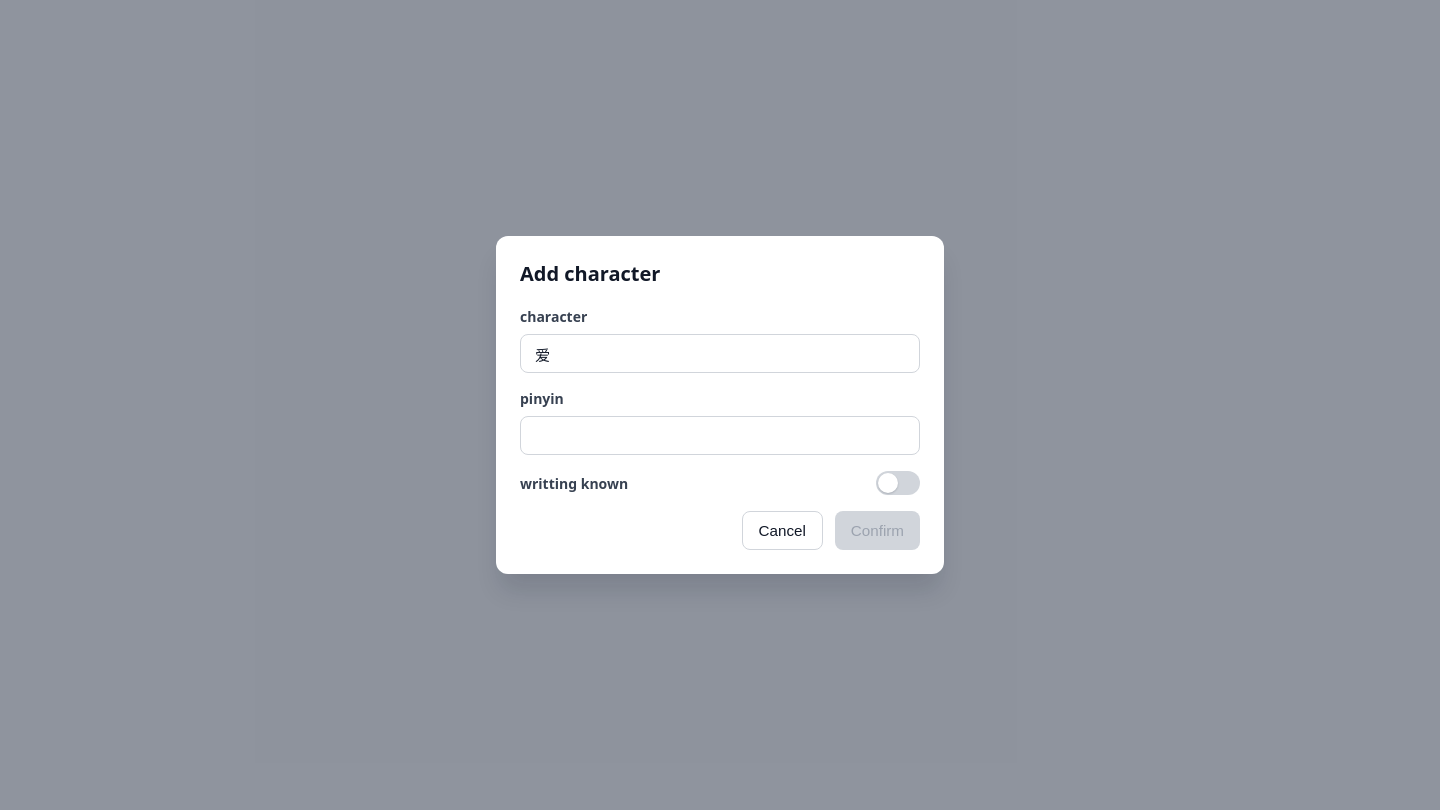
it: CharacterFormModal › keeps confirm disabled for invalid pinyin
Type "invalid" into the field labelled "pinyin" at [720, 436], box [520,416,920,455]
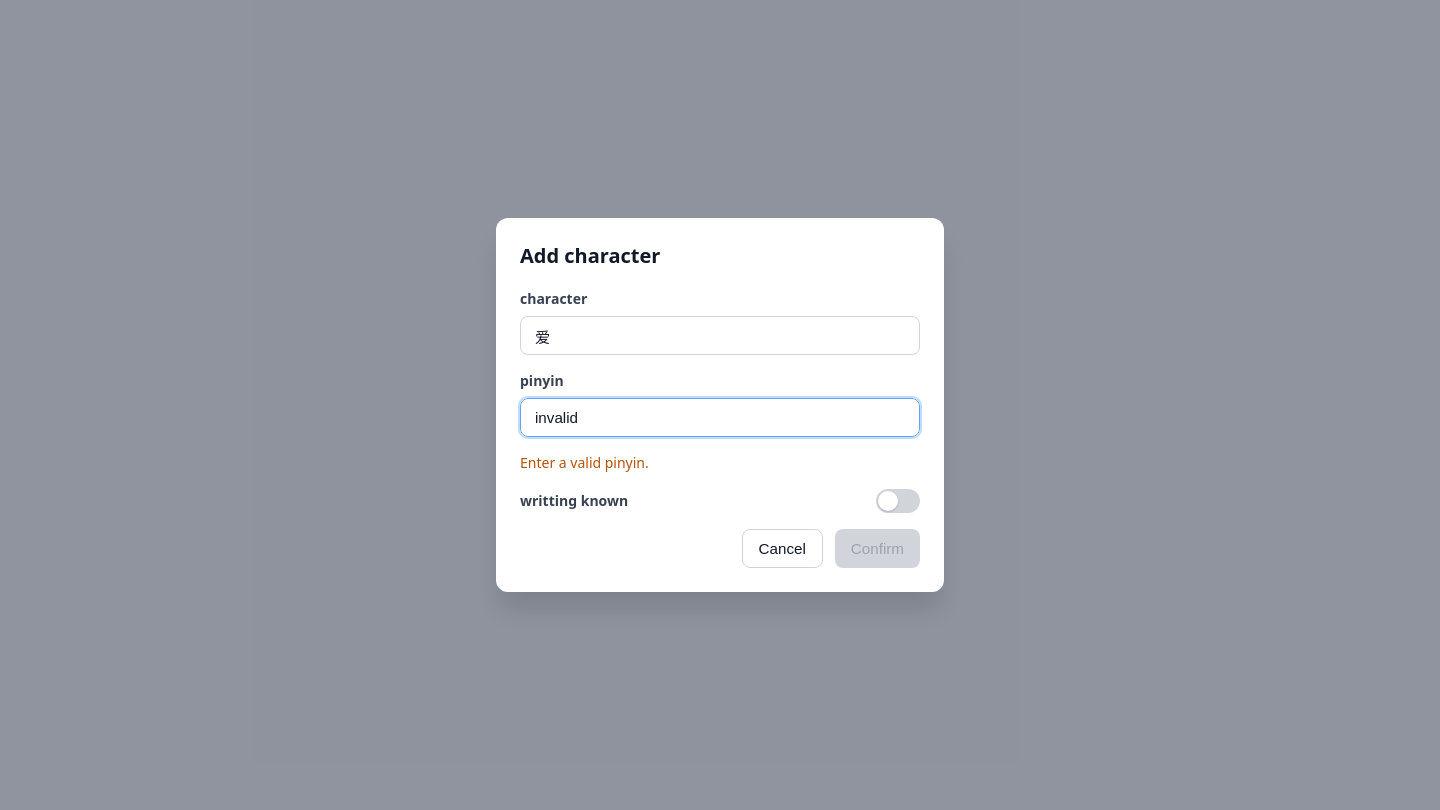
Check: the button "Confirm" is disabled, box [835,529,920,568]
Check: the text "Enter a valid pinyin." is shown, box [520,453,649,472]
